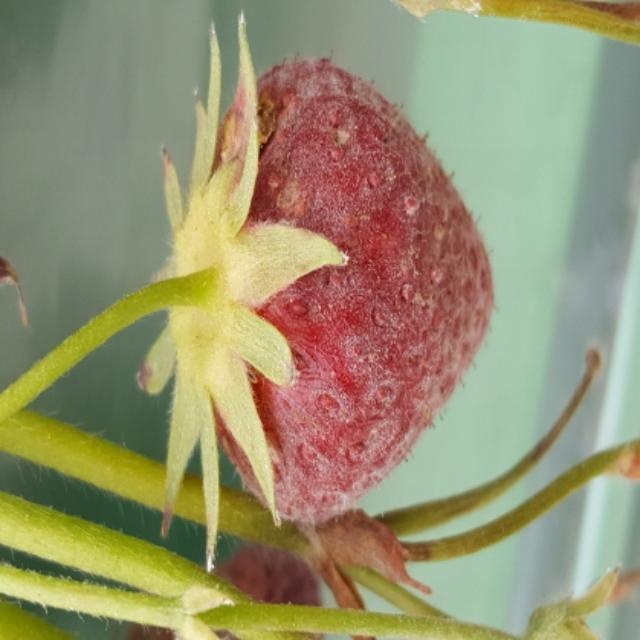Powdery Mildew Fruit: (188, 55, 500, 527)
